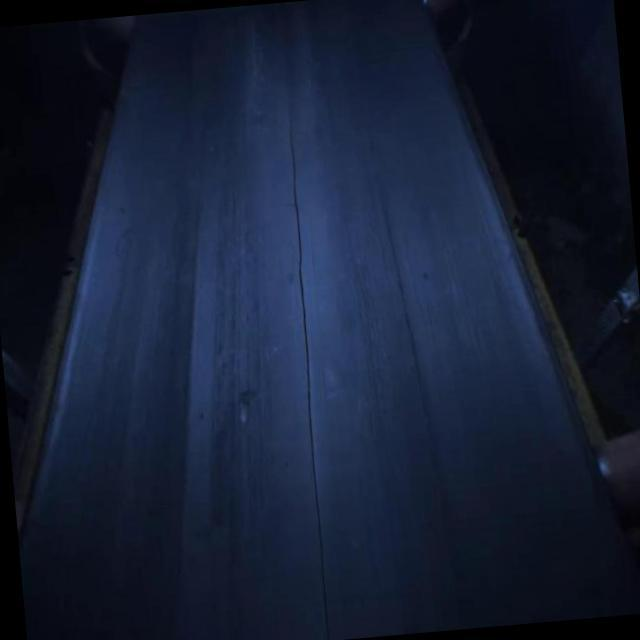Tear: (280, 80, 344, 640)
